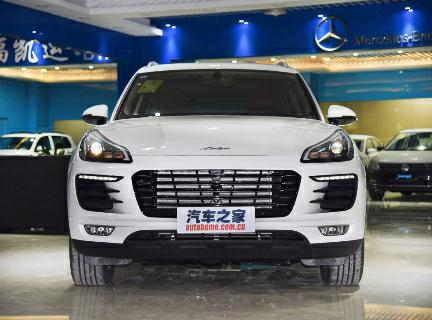众泰-SR9: (62, 58, 378, 302)
